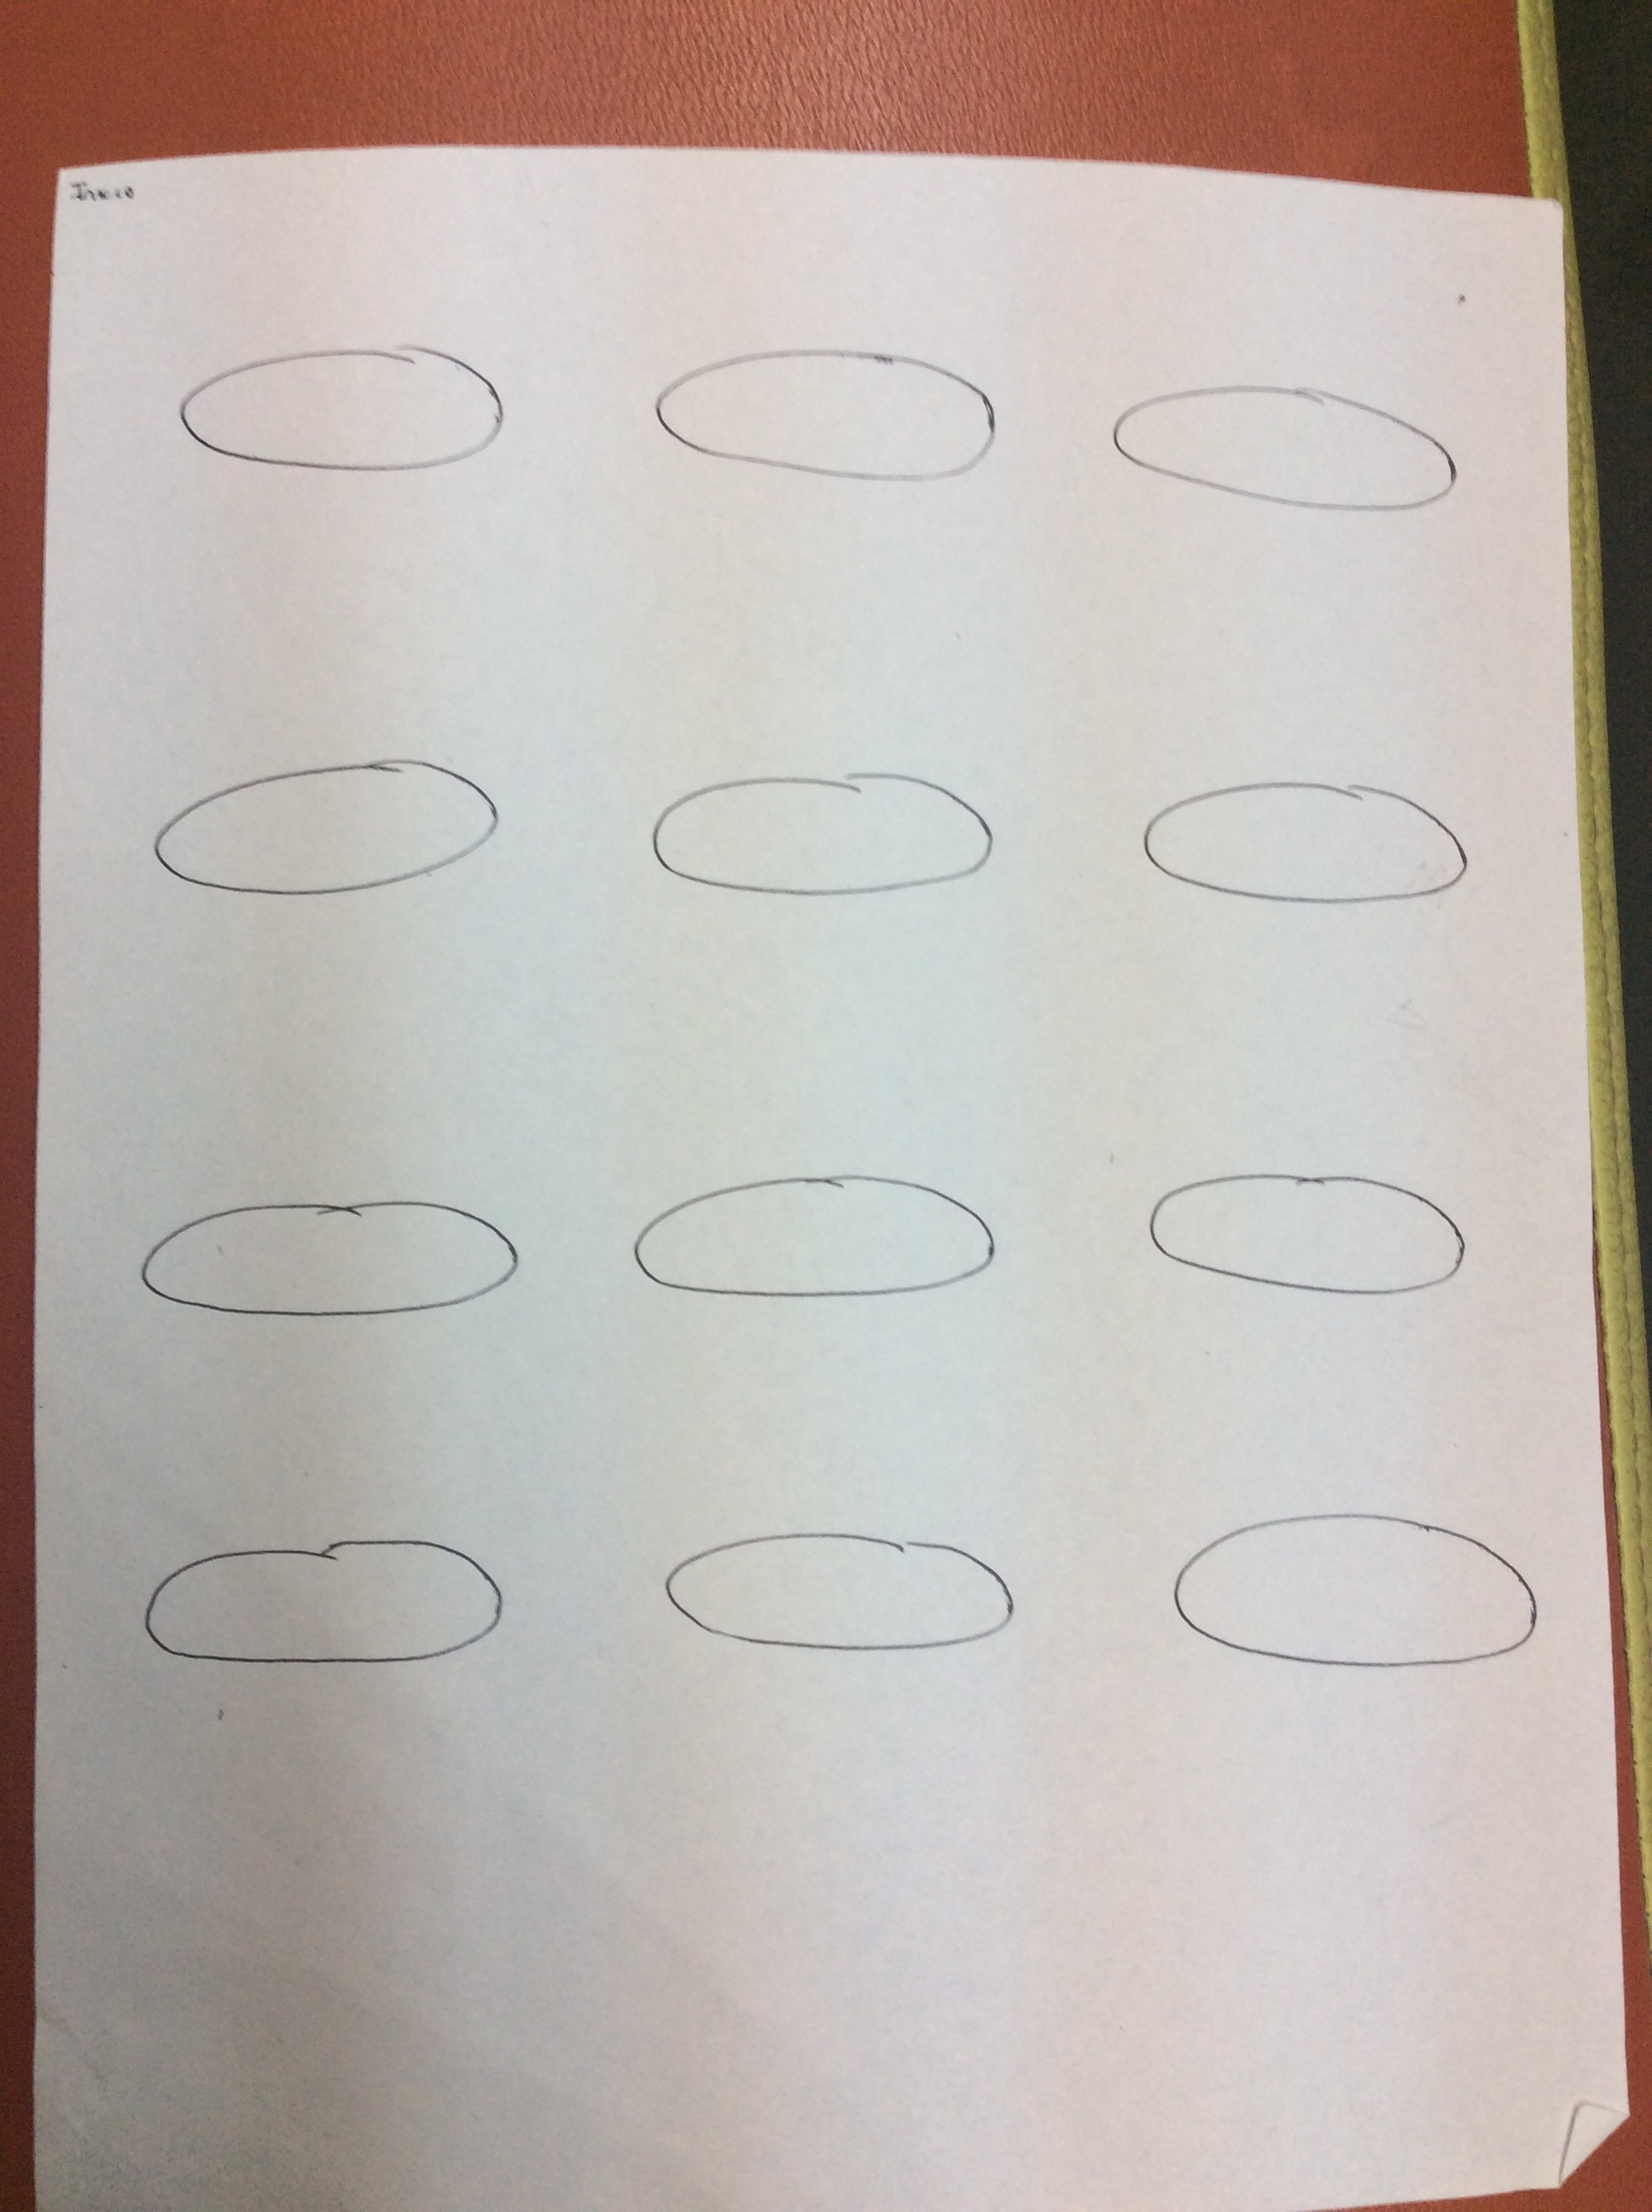start_end: (1118, 1471, 1562, 1724), (1097, 331, 1484, 550), (630, 311, 1022, 526), (640, 1495, 1029, 1711), (125, 1161, 545, 1345), (118, 1520, 531, 1700), (1111, 1129, 1506, 1317), (1128, 748, 1494, 949), (135, 723, 514, 918), (640, 734, 1019, 928), (619, 1157, 1019, 1331), (158, 317, 524, 494)
